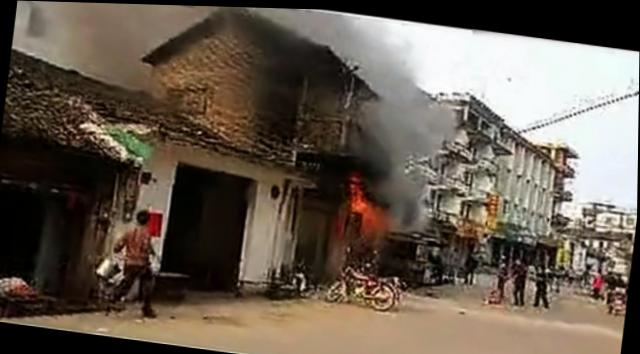fire: (359, 197, 387, 233), (347, 180, 368, 209)
